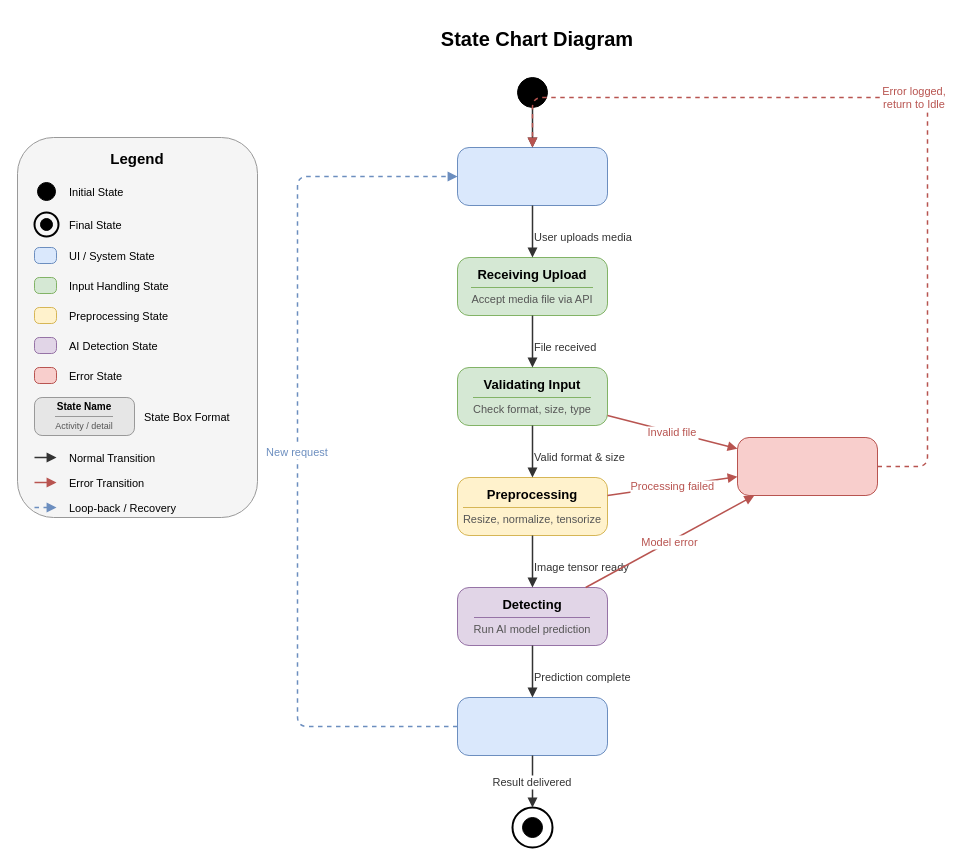
Some shapes in this 965 by 865 pixel diagram are drawn without their labels. Each missing label, with the centre of its shape:
Error Log error, notify user: point 807,466
Idle Waiting for user request: point 532,176
Returning Result Send verdict & confidence: point 532,726
